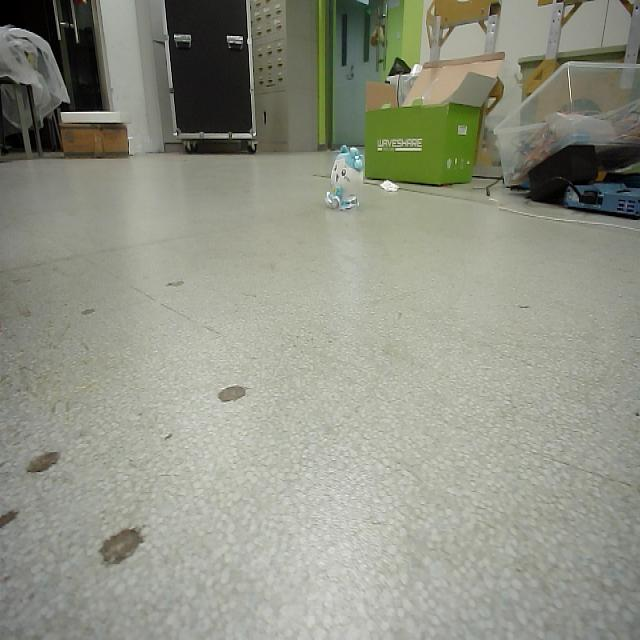xiaoba: (323, 140, 369, 216)
